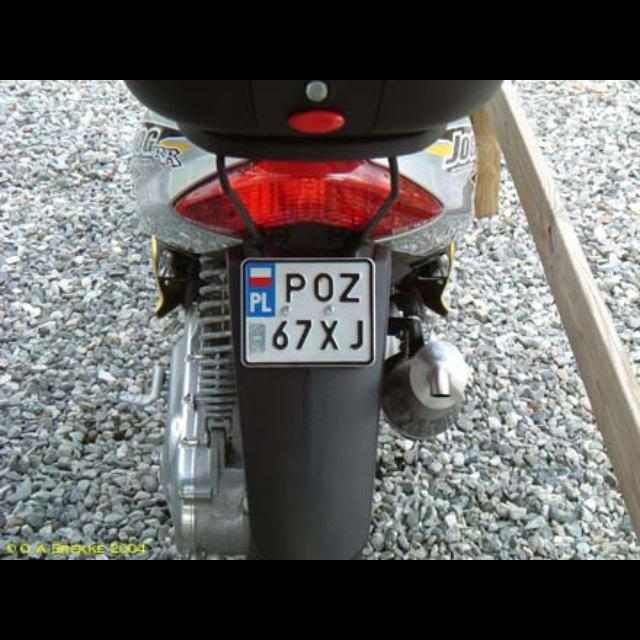license-plates: (242, 258, 376, 366)
